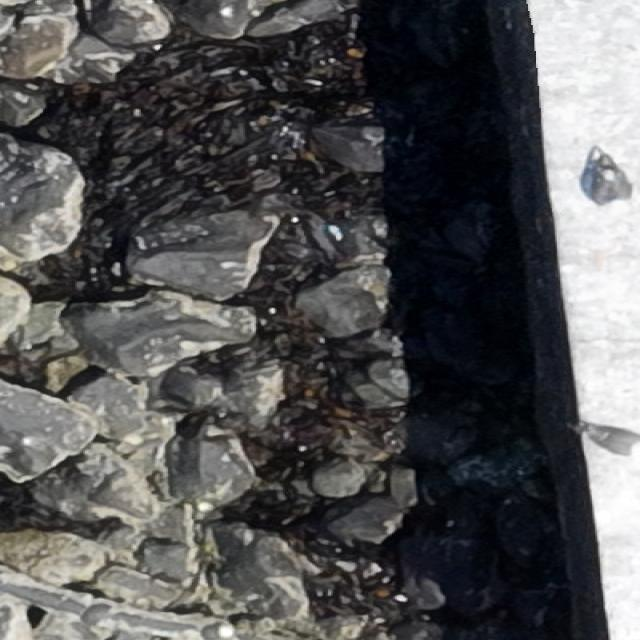umineko: (580, 160, 638, 215), (591, 431, 640, 456)
